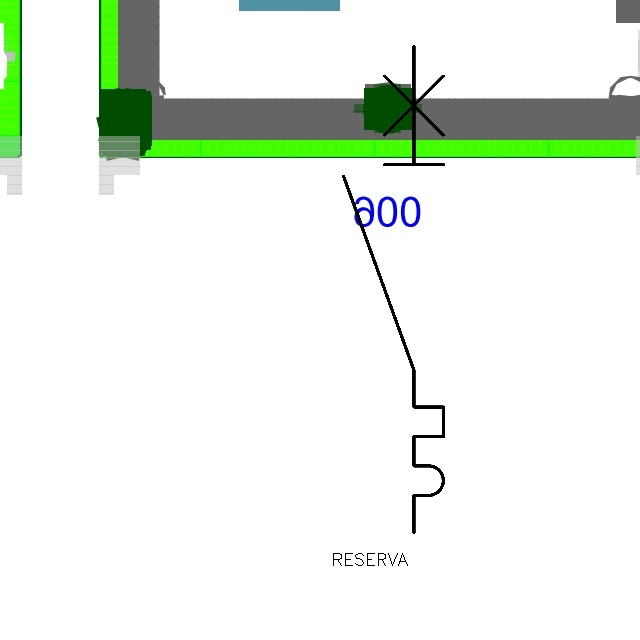interruptor_termomagnetico: (331, 34, 456, 545)
